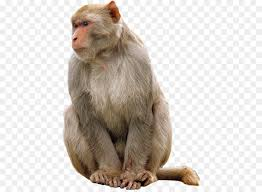monkey: (50, 7, 203, 191)
